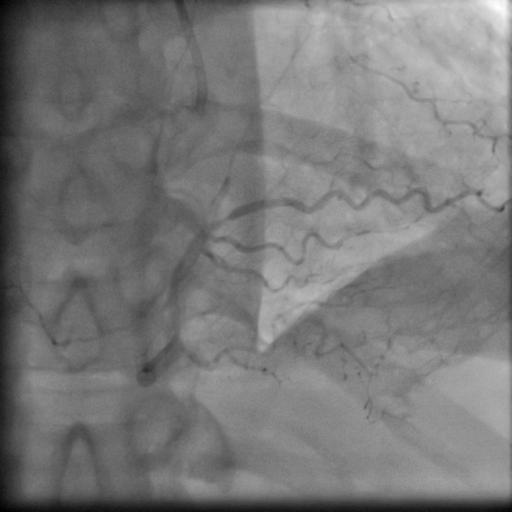Stenosis: (207, 211, 237, 227)
